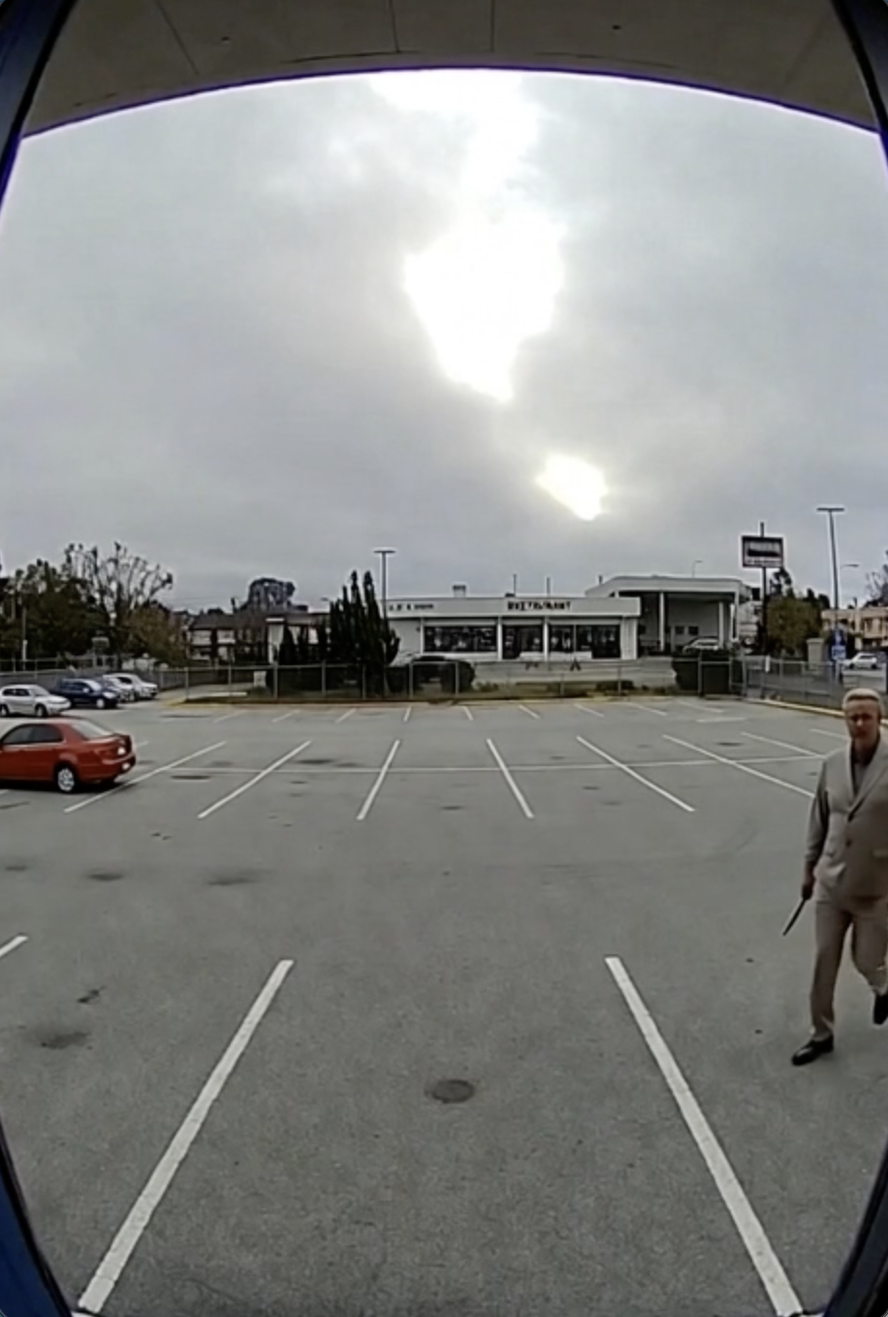Heavy Gun: (783, 672, 888, 1077)
Knife: (777, 869, 813, 939)
